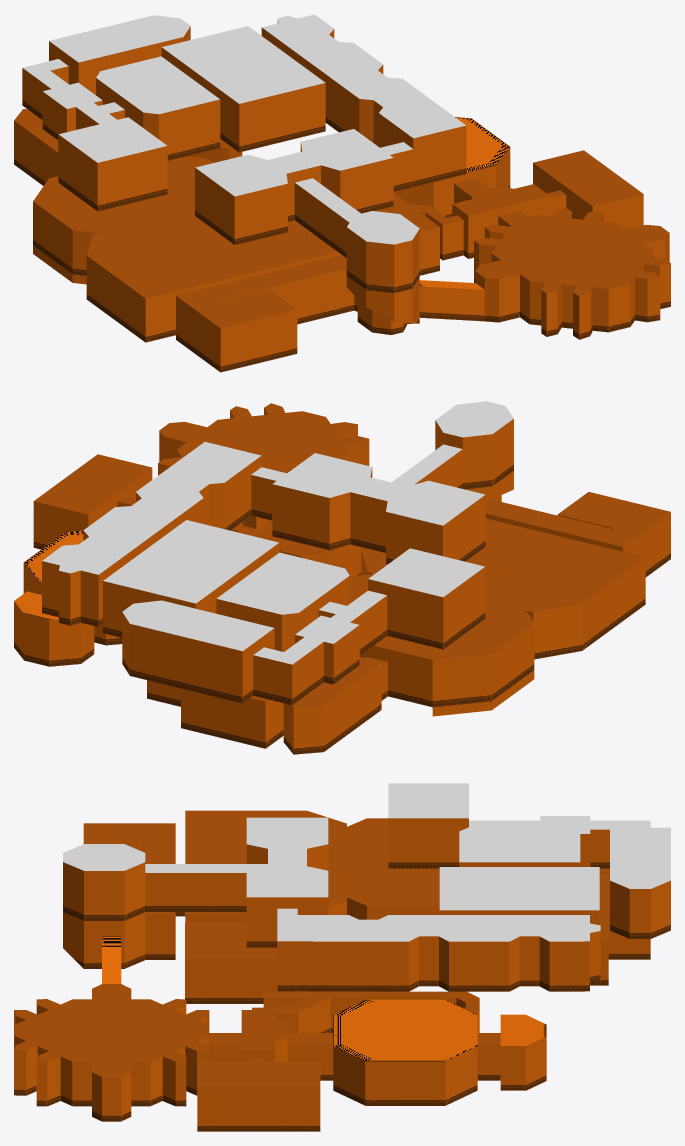
The model's file is DungeonMap.fbx.
The picture shows the model from 3 angles, top to bottom: view 1: azimuth 30°, elevation 25°; view 2: azimuth 150°, elevation 25°; view 3: azimuth 270°, elevation 25°; orthographic projection. The views are drawn at different scales.
Parts seen in each view (by area): view 1: Level3Wall, Level3Floor, Level2Floor, Level2Wall, Level1Wall, Level1Floor, StairCase; view 2: Level3Wall, Level3Floor, Level2Wall, Level2Floor, Level1Floor, Level1Wall; view 3: Level3Wall, Level3Floor, Level1Floor, Level1Wall, Level2Floor, Level2Wall.
Part boxes in pixels (x1,y1,x2,y2): Level3Wall: (22,20,466,292); Level3Floor: (22,14,465,244); Level2Floor: (14,109,439,328); Level2Wall: (14,121,439,372); Level1Wall: (393,147,670,339); Level1Floor: (409,117,670,322); StairCase: (354,295,411,334); Level3Wall: (42,419,513,705); Level3Floor: (42,401,513,664); Level2Wall: (147,471,670,754); Level2Floor: (250,492,670,707); Level1Floor: (14,403,368,619); Level1Wall: (14,408,369,666); Level3Wall: (63,818,670,991); Level3Floor: (63,783,670,941); Level1Floor: (14,936,546,1086); Level1Wall: (14,997,546,1131); Level2Floor: (83,810,609,958); Level2Wall: (63,836,650,1003).
Bounding box in the file's own units: 3317 × 737 × 3637.
